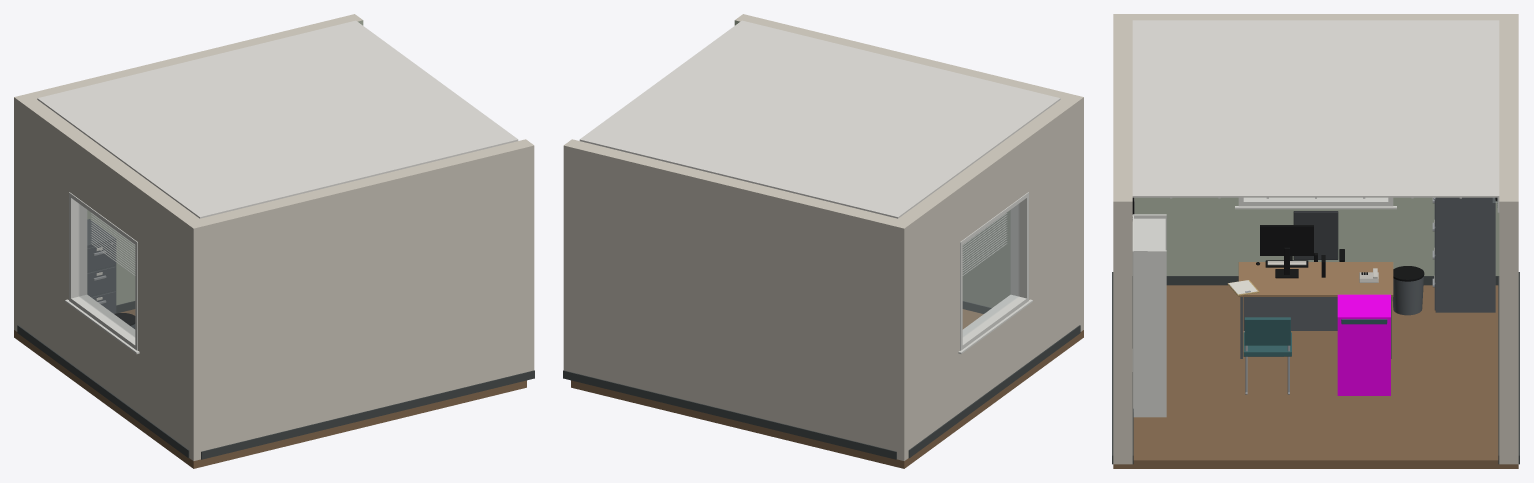
File: ENV_PsychiatristOffice.glb
3 renders of one model, left to right at view 1: azimuth 30°, elevation 25°; view 2: azimuth 150°, elevation 25°; view 3: azimuth 270°, elevation 25°, orthographic. The views are drawn at different scales.
Visible parts, largest first — view 1: ENV_PsychiatristOffice_Architecture, ENV_PsychiatristOffice_Ceiling, ENV_PsychiatristOffice_Posts, PROP_Cabinet_Filing_4Drawer_Mesh, OF_WindowBlinds; view 2: ENV_PsychiatristOffice_Architecture, ENV_PsychiatristOffice_Ceiling, ENV_PsychiatristOffice_Posts, OF_WindowBlinds; view 3: ENV_PsychiatristOffice_Architecture, ENV_PsychiatristOffice_Ceiling, PROP_Desk_Clinical_Mesh, PROP_Cabinet_Filing_4Drawer_Mesh, PROP_Bookcase_Binders_Mesh, PROP_Chair_Visitor_COL-colonly.001, PROP_Terminal_EHR_Mesh, PROP_Chair_Visitor_Mesh, PROP_Chair_Office_Mesh, PROP_Bin_Waste_Mesh.
Boxes of the visible parts, x1,y1,x2,y2 form: ENV_PsychiatristOffice_Architecture: [14, 14, 534, 468]; ENV_PsychiatristOffice_Ceiling: [37, 20, 518, 218]; ENV_PsychiatristOffice_Posts: [14, 93, 206, 460]; PROP_Cabinet_Filing_4Drawer_Mesh: [87, 219, 116, 313]; OF_WindowBlinds: [91, 213, 135, 275]; ENV_PsychiatristOffice_Architecture: [563, 14, 1083, 468]; ENV_PsychiatristOffice_Ceiling: [579, 20, 1060, 218]; ENV_PsychiatristOffice_Posts: [889, 93, 1083, 460]; OF_WindowBlinds: [962, 213, 1006, 275]; ENV_PsychiatristOffice_Architecture: [1112, 14, 1519, 468]; ENV_PsychiatristOffice_Ceiling: [1132, 20, 1499, 198]; PROP_Desk_Clinical_Mesh: [1238, 262, 1393, 358]; PROP_Cabinet_Filing_4Drawer_Mesh: [1432, 197, 1495, 312]; PROP_Bookcase_Binders_Mesh: [1132, 214, 1166, 417]; PROP_Chair_Visitor_COL-colonly.001: [1337, 294, 1390, 395]; PROP_Terminal_EHR_Mesh: [1256, 225, 1325, 278]; PROP_Chair_Visitor_Mesh: [1243, 317, 1291, 394]; PROP_Chair_Office_Mesh: [1290, 211, 1344, 261]; PROP_Bin_Waste_Mesh: [1392, 266, 1424, 315].
Size of what is drawn, in the model's own units: 4.64 by 3.12 by 4.22.
